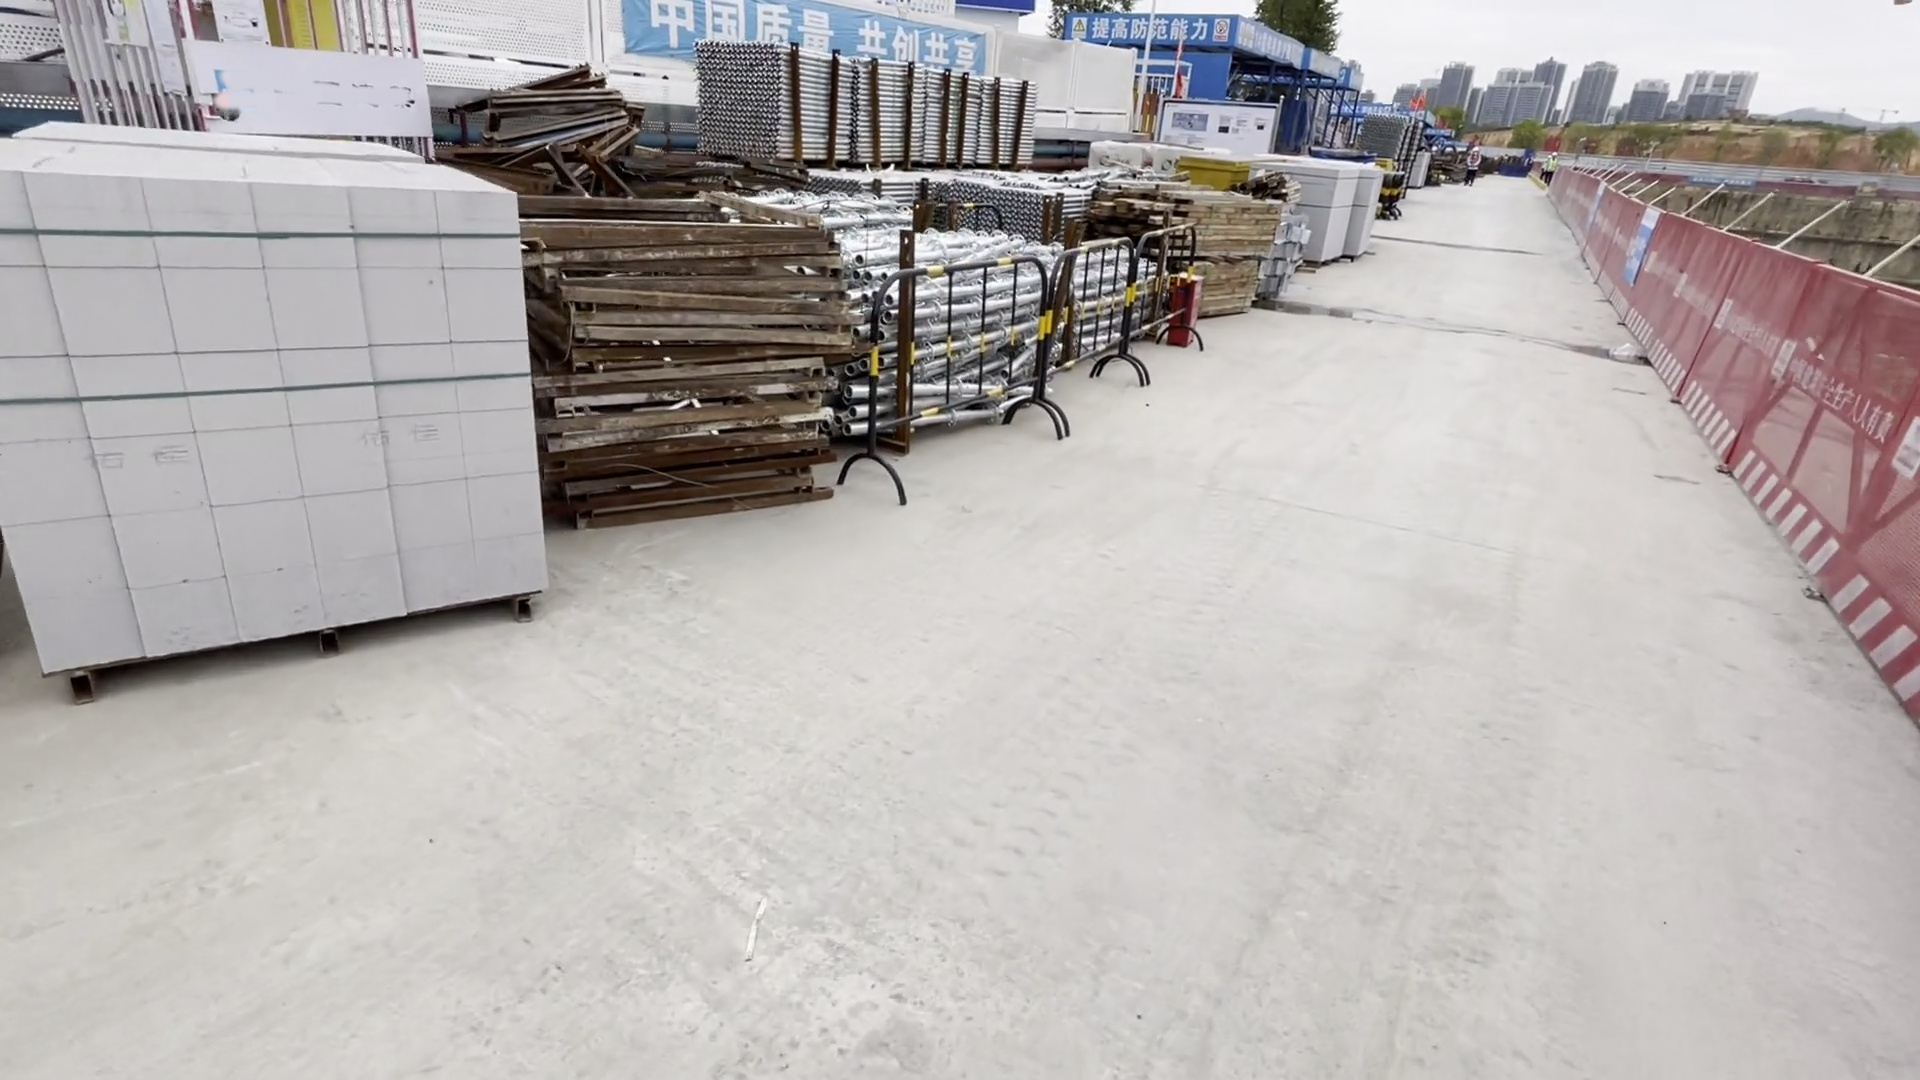brick: (1, 102, 546, 715), (1271, 160, 1393, 258)
fence: (1551, 162, 1920, 742)
scaffold: (695, 44, 1040, 175), (851, 203, 1097, 378), (952, 175, 1109, 243)
slogan: (616, 1, 992, 98), (1055, 18, 1232, 50)
wood: (1122, 189, 1273, 313)
